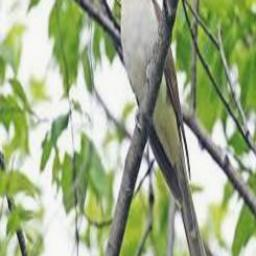Cuckoo: (104, 0, 214, 256)
